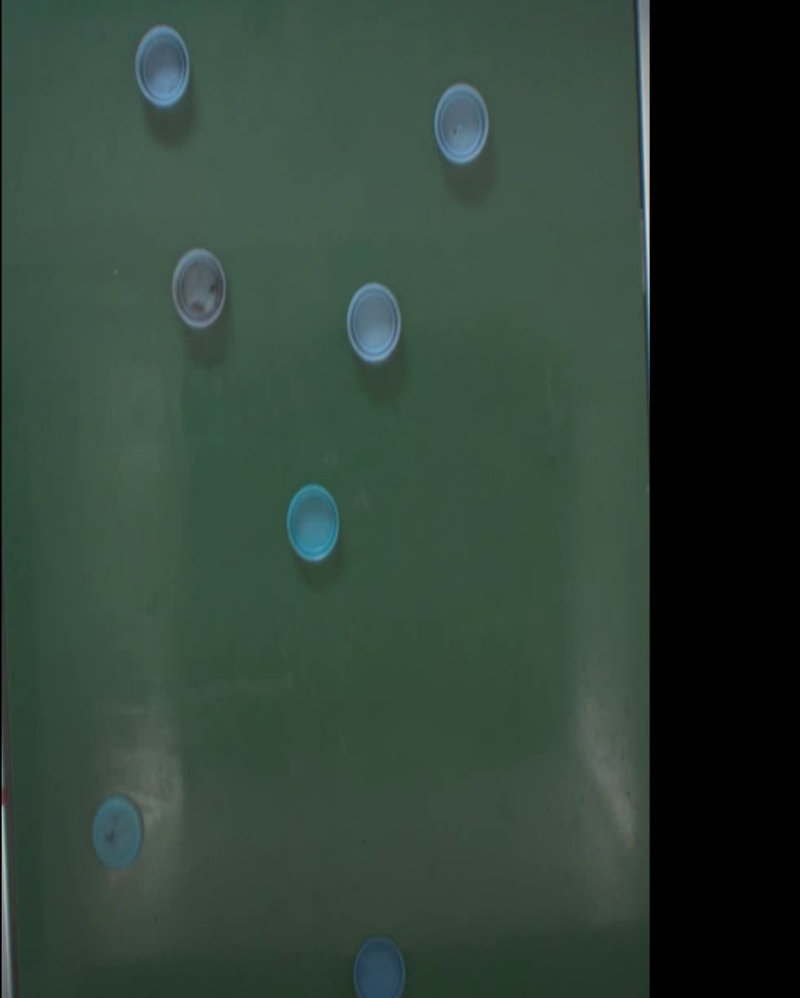Light Blue: (134, 25, 190, 108), (171, 249, 226, 330), (346, 284, 400, 365), (434, 83, 488, 164), (286, 485, 339, 563), (92, 798, 143, 872), (352, 936, 406, 998)
